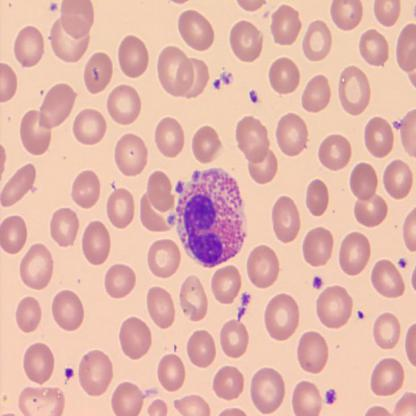Eosinophil: (168, 168, 248, 270)
